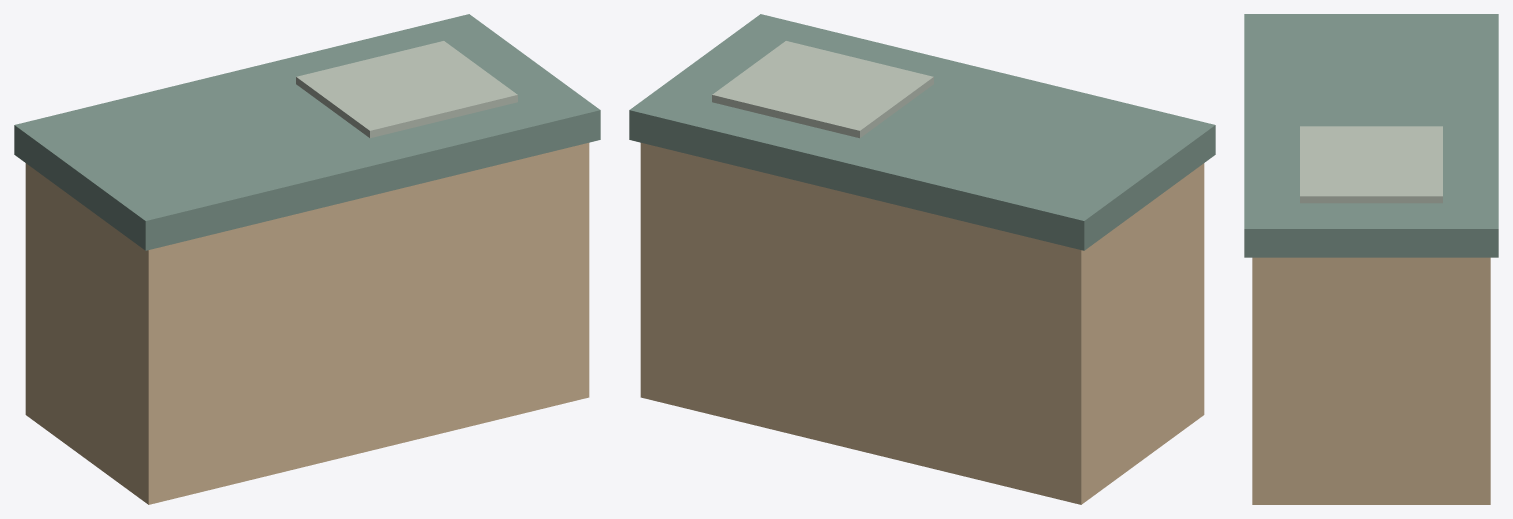
The model's file is kitchen_counter.glb.
3 renders of one model, left to right at view 1: azimuth 30°, elevation 25°; view 2: azimuth 150°, elevation 25°; view 3: azimuth 270°, elevation 25°, orthographic. The views are drawn at different scales.
Parts seen in each view (by area): view 1: _MeshInstance3D_285, _MeshInstance3D_288, _MeshInstance3D_289; view 2: _MeshInstance3D_285, _MeshInstance3D_288, _MeshInstance3D_289; view 3: _MeshInstance3D_285, _MeshInstance3D_288, _MeshInstance3D_289.
Boxes of the visible parts, box(x1,y1,x2,y2) form: _MeshInstance3D_285: box(25, 143, 589, 504); _MeshInstance3D_288: box(14, 14, 600, 250); _MeshInstance3D_289: box(296, 41, 517, 138); _MeshInstance3D_285: box(640, 143, 1204, 504); _MeshInstance3D_288: box(629, 14, 1215, 250); _MeshInstance3D_289: box(712, 41, 933, 138); _MeshInstance3D_285: box(1252, 257, 1490, 504); _MeshInstance3D_288: box(1244, 14, 1498, 257); _MeshInstance3D_289: box(1300, 126, 1442, 203).
Bounding box in the file's own units: 1.6 × 0.995 × 0.8.
